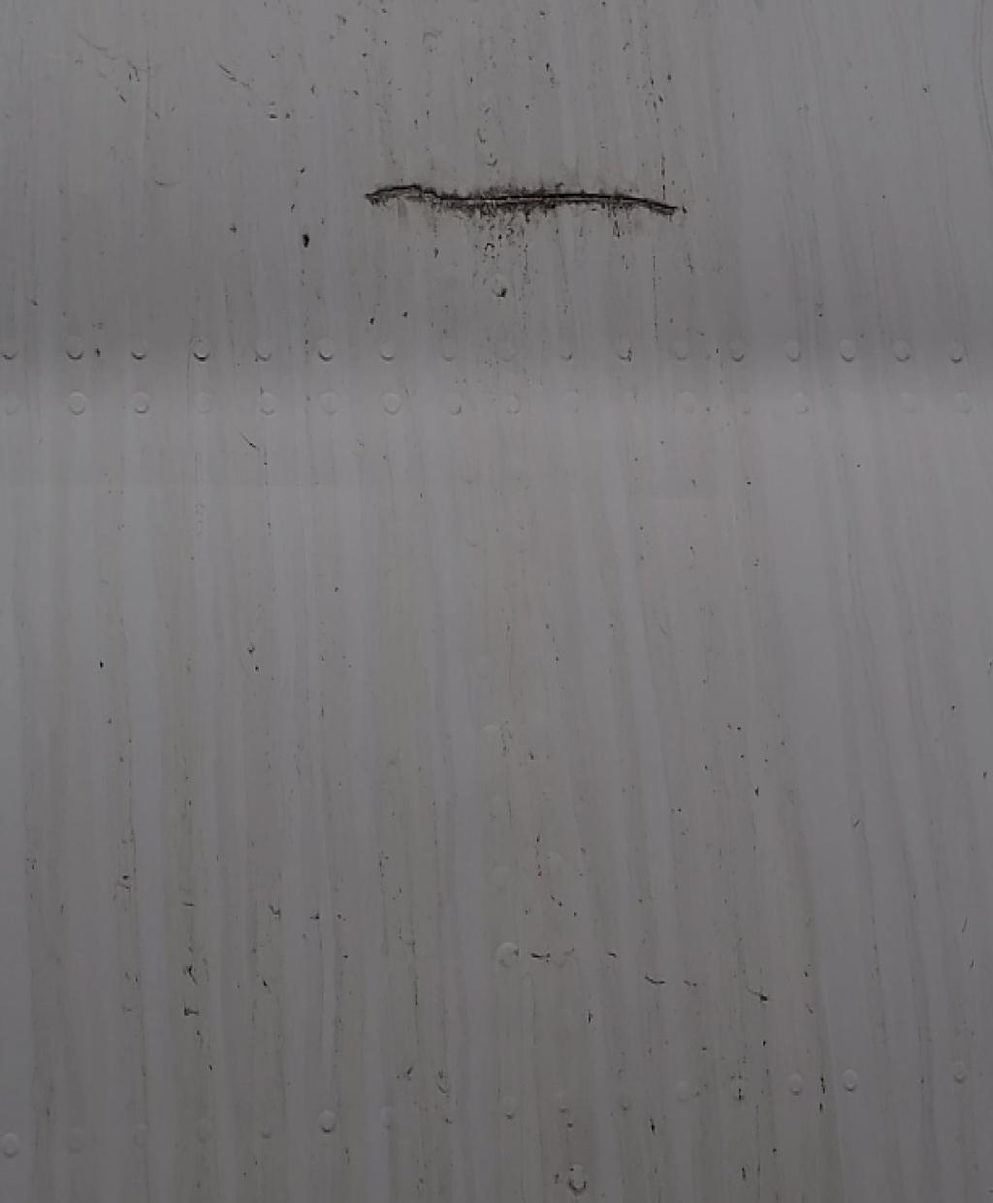corrosion: (367, 178, 683, 233)
